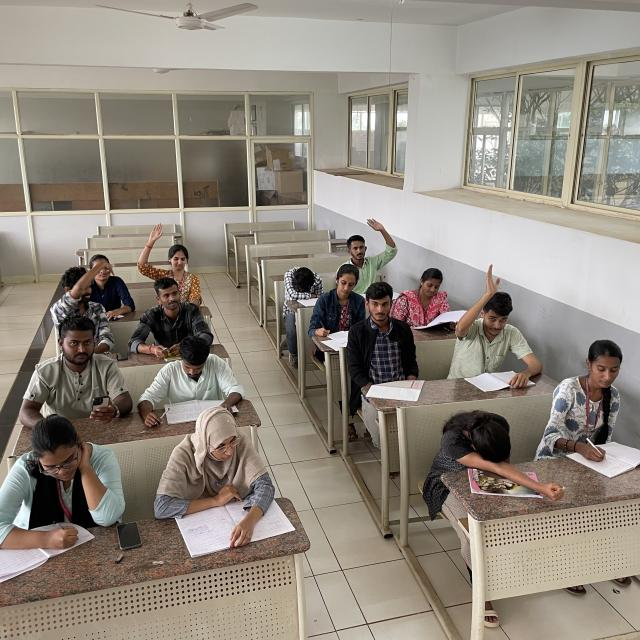Hand Rising: (456, 261, 539, 377), (137, 222, 200, 296), (344, 218, 395, 287)
Reading: (149, 406, 278, 540), (144, 328, 250, 419), (403, 263, 471, 329)
Sleeping: (431, 405, 525, 469), (284, 264, 329, 302)
Writing: (0, 417, 97, 557), (547, 340, 640, 474), (310, 264, 367, 346)
